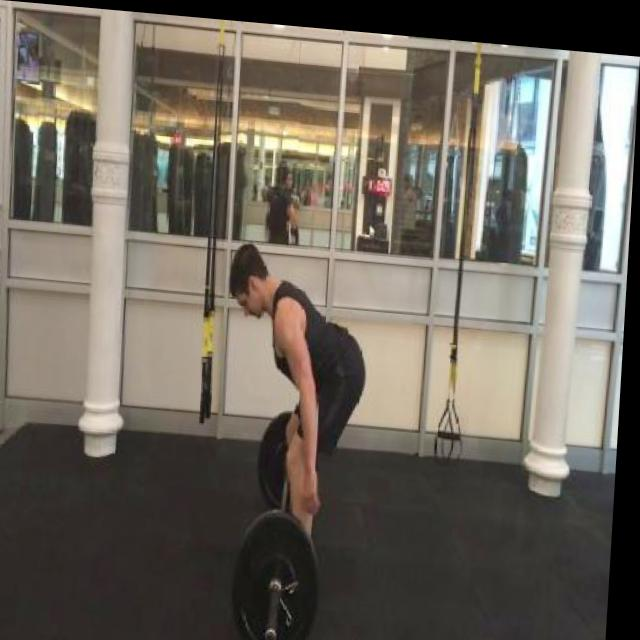barbell: (231, 499, 336, 640)
